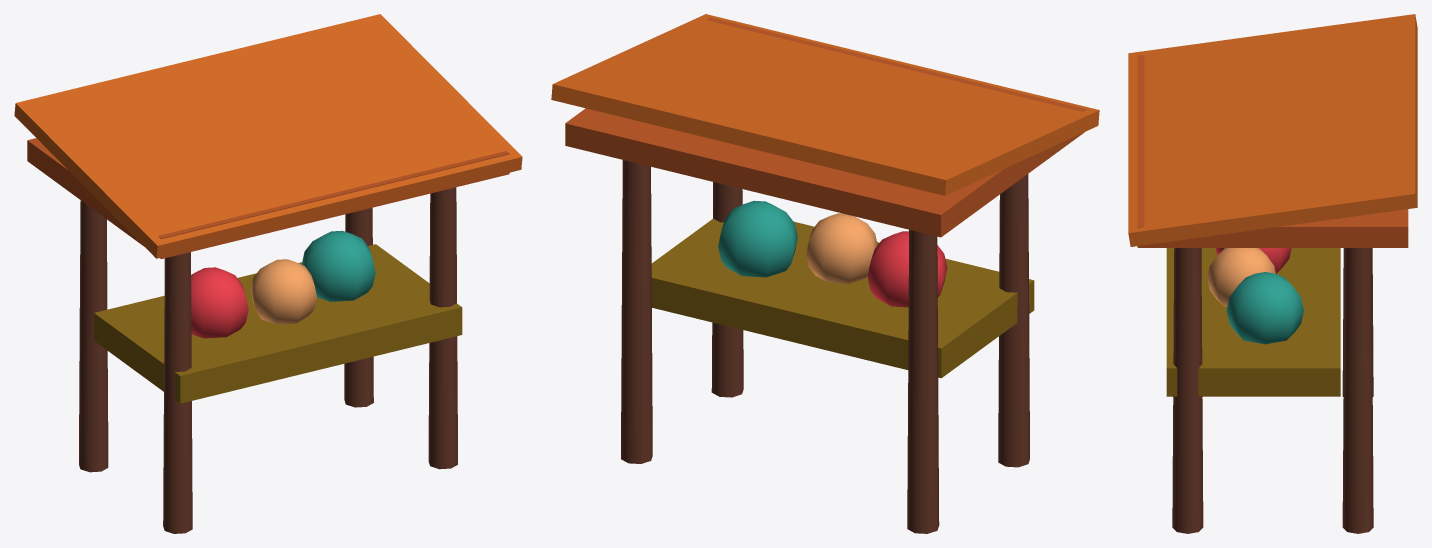
The model's file is stall.glb.
The picture shows the model from 3 angles, left to right: view 1: azimuth 30°, elevation 25°; view 2: azimuth 150°, elevation 25°; view 3: azimuth 270°, elevation 25°; orthographic projection. The views are drawn at different scales.
Visible parts, largest first — view 1: stall; view 2: stall; view 3: stall.
Part boxes in pixels (box(x1,y1,x2,y2)): stall: box(14, 14, 522, 533); stall: box(551, 14, 1099, 533); stall: box(1128, 14, 1417, 533).
Bounding box in the file's own units: 1.1 × 1.02 × 0.7476.
